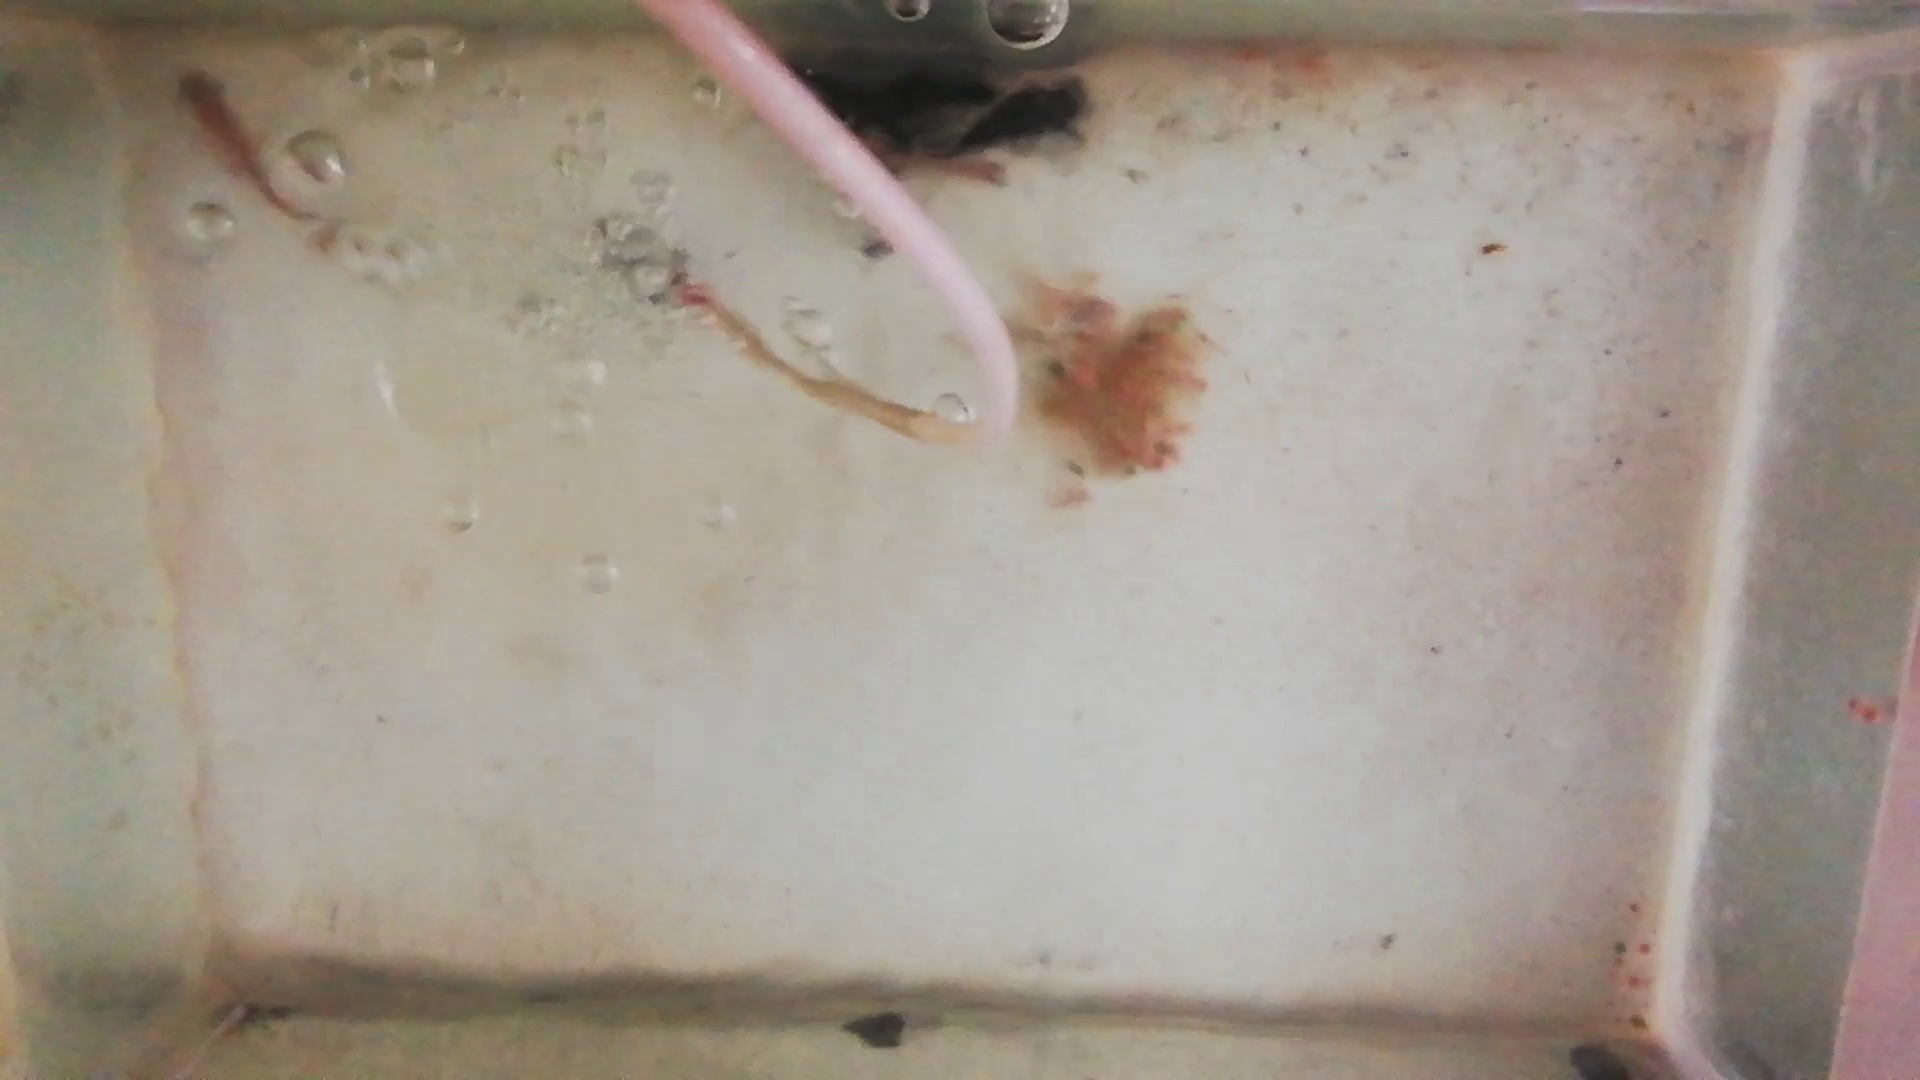fish: (175, 66, 310, 224), (877, 146, 1009, 191)
